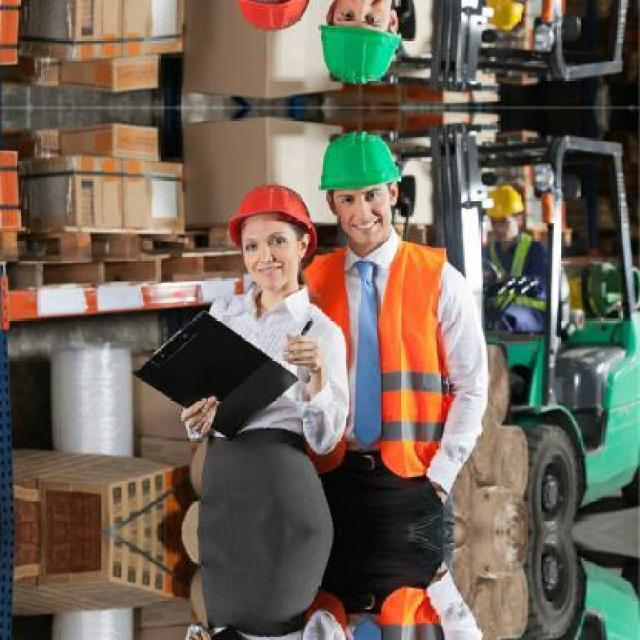Reflective-Jacket: (306, 234, 463, 488), (477, 234, 568, 348)
Safety-Helmet: (310, 124, 416, 204), (218, 176, 322, 256), (474, 178, 531, 228)
